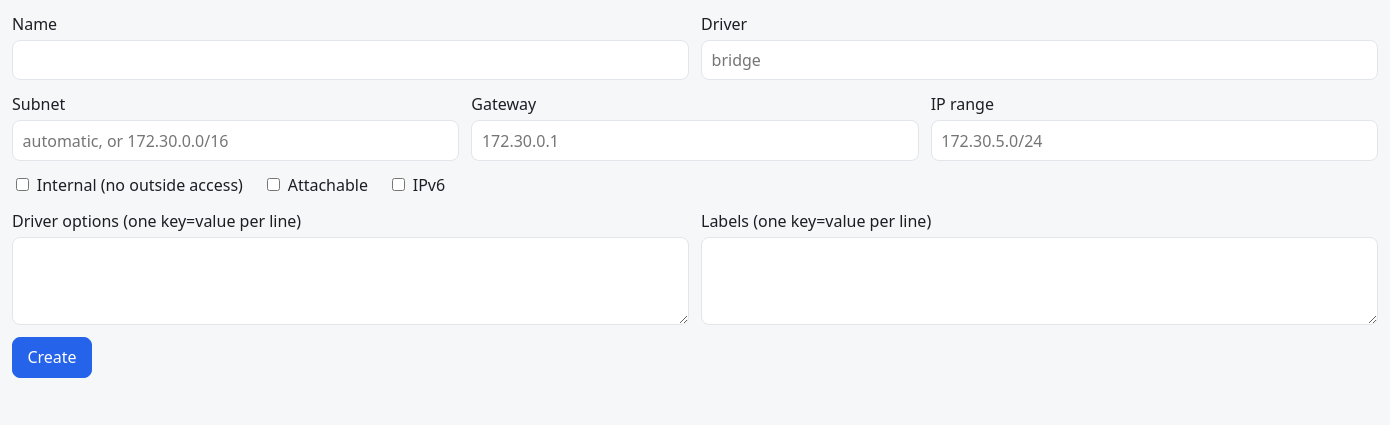
Test: NetworkCreate › shows the API error
The width and height of the screenshot is (1390, 425).
Type "front" into the field named "name" at (350, 60), box [12,40,689,80]
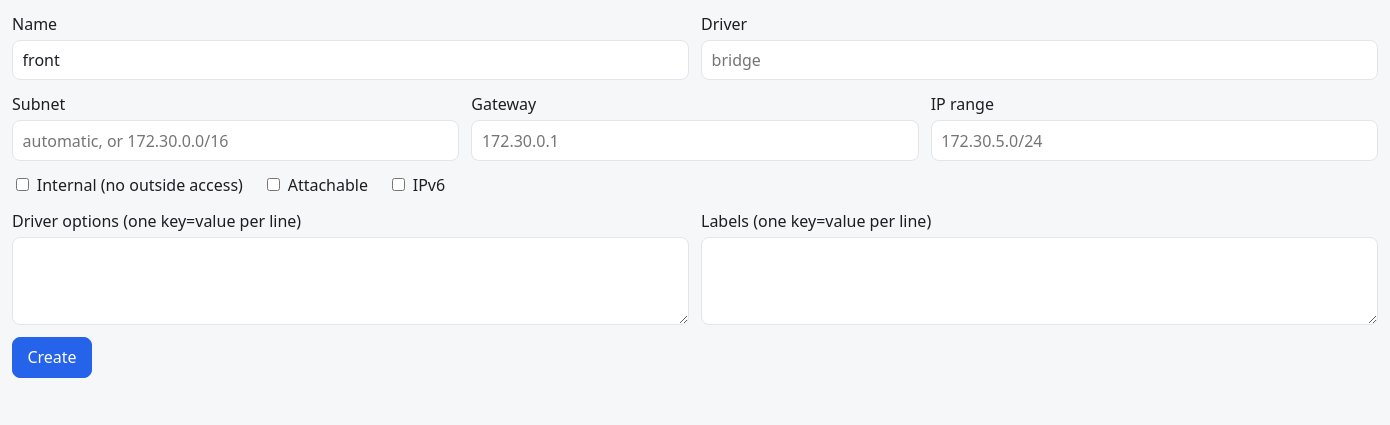
Submit the form
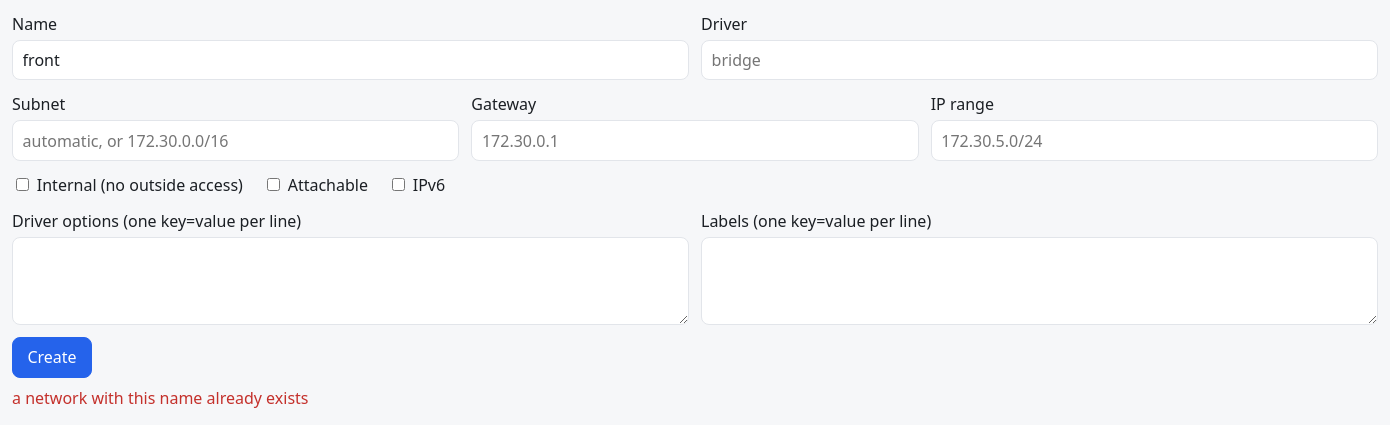
Result: the message "a network with this name already exists" is shown at [12,386,308,408]
